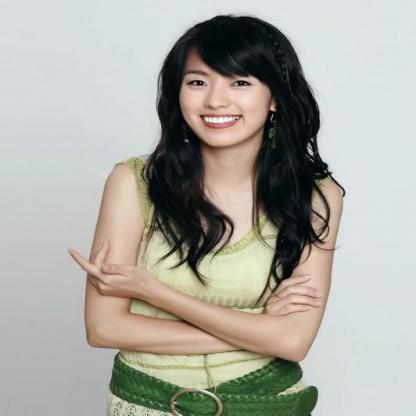long-hair: (148, 148, 324, 186)
